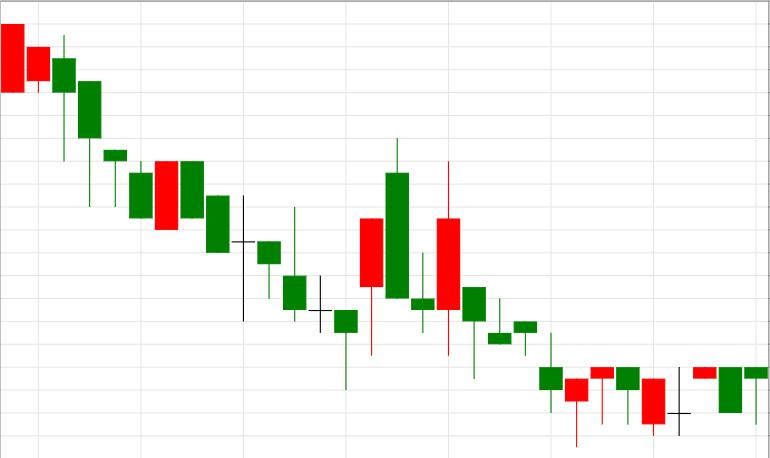hammer_rise: (181, 161, 358, 391)
